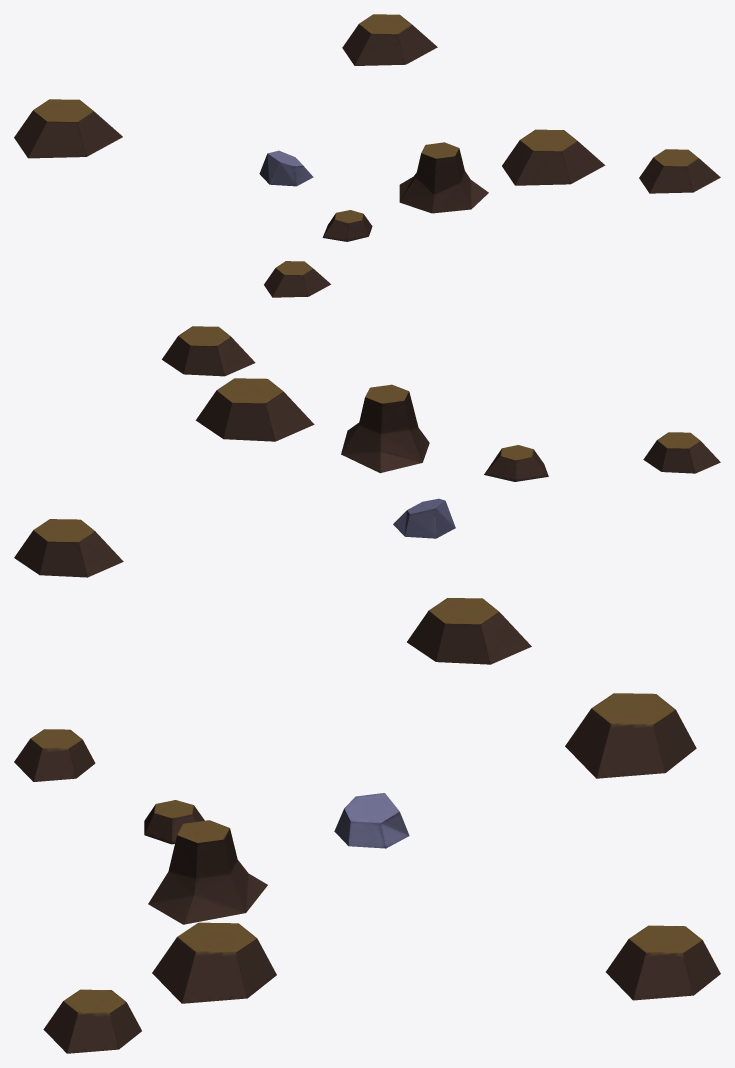
The model's file is waste_2_ruin_lod0.fbx.
3 renders of one model, top to bottom at view 1: azimuth 30°, elevation 25°; view 2: azimuth 150°, elevation 25°; view 3: azimuth 270°, elevation 25°, orthographic. The views are drawn at different scales.
Visible parts, largest first — view 1: waste_2_ruin_lod0; view 2: waste_2_ruin_lod0; view 3: waste_2_ruin_lod0.
Boxes of the visible parts, x1=… form: waste_2_ruin_lod0: x1=14, y1=14, x2=720, y2=297; waste_2_ruin_lod0: x1=14, y1=326, x2=720, y2=664; waste_2_ruin_lod0: x1=14, y1=693, x2=720, y2=1053.
Bounding box in the file's own units: 0.0521 × 0.00477 × 0.046.
